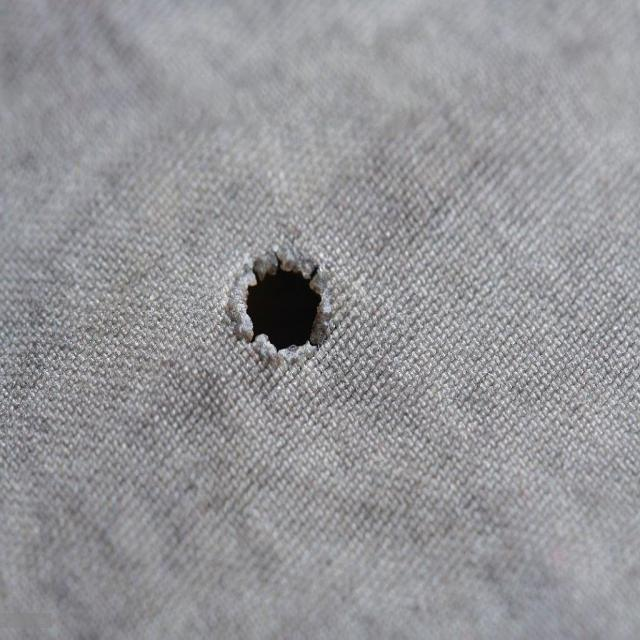Hole: (227, 243, 333, 372)
